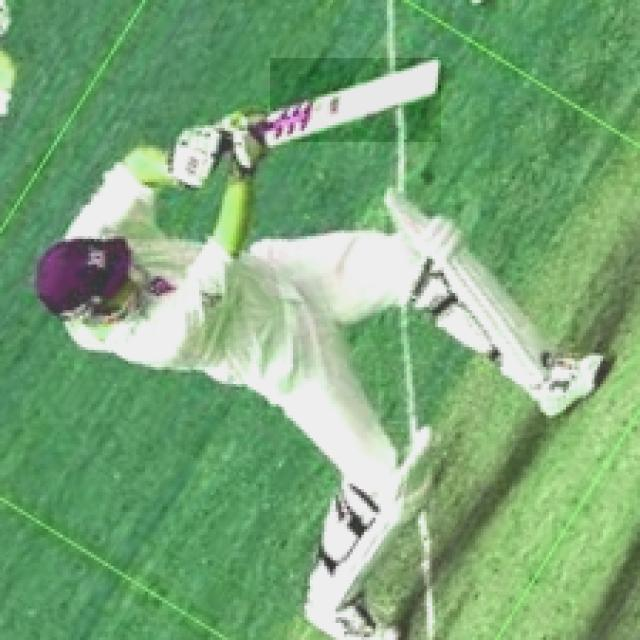bat: (272, 54, 442, 142)
toe: (431, 53, 444, 98)
